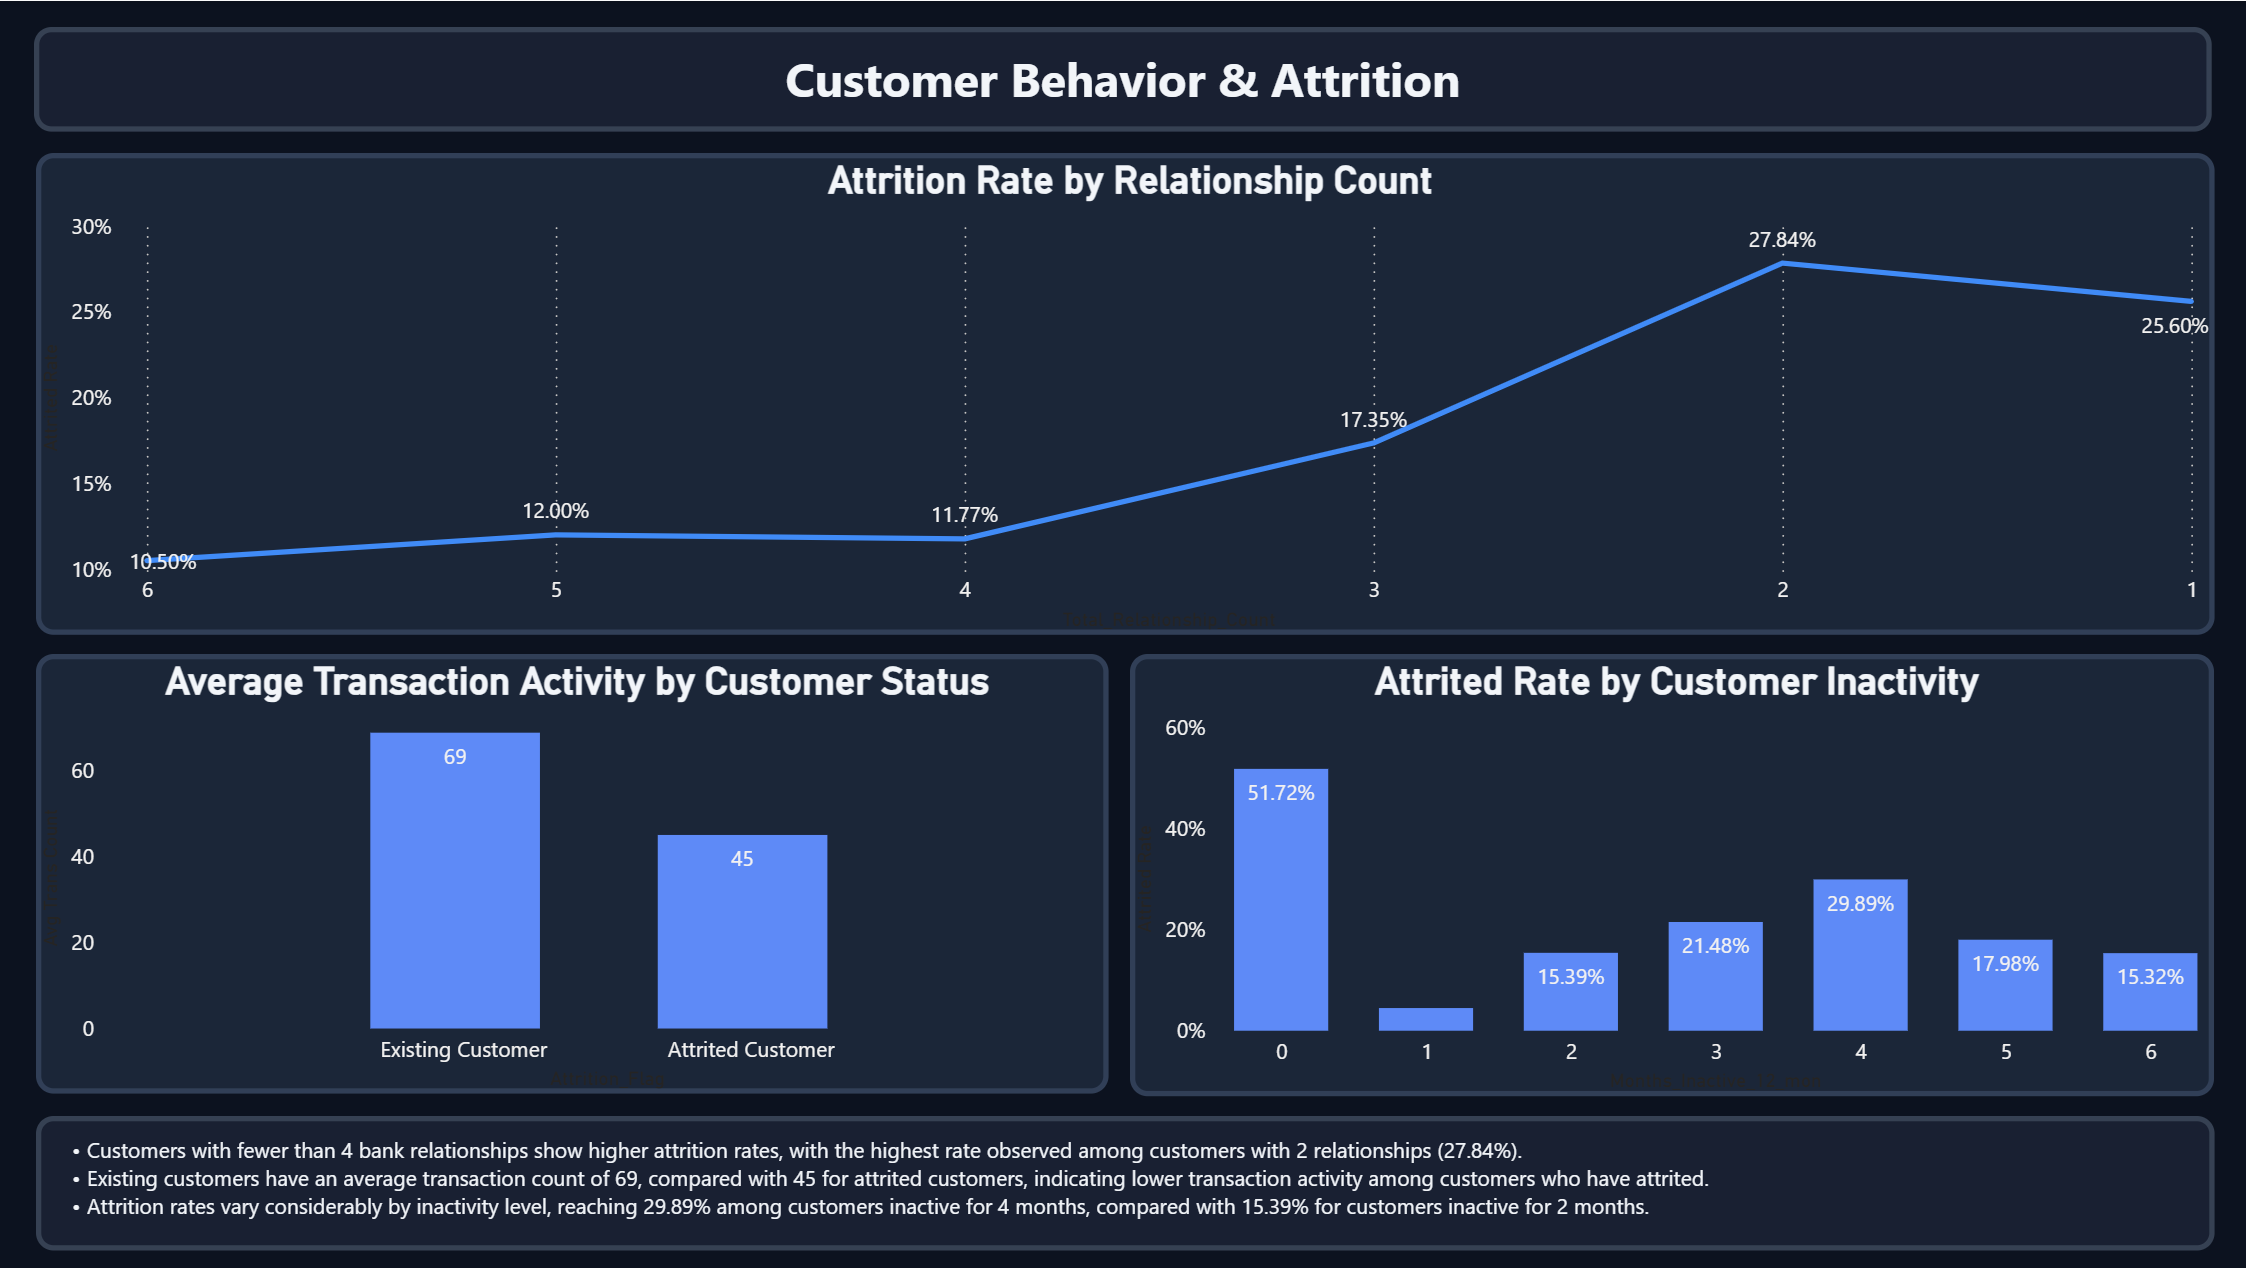

What the dashboard file says about the page in this screenshot:
{"tool":"powerbi","page":{"name":"Customer Behavior & Attrition ","canvas":[1280,720],"ordinal":1},"visuals":[{"type":"textbox","box":[20.7,15.3,1238.7,59.7],"z":0},{"type":"clusteredColumnChart","title":"Attrited Rate by Customer Inactivity","fields":{"Y":["BankChurners.Attrited Rate"],"Category":["BankChurners.Months_Inactive_12_mon"]},"box":[643.8,371.2,616.2,251.2],"z":5000},{"type":"clusteredColumnChart","title":"Average Transaction Activity by Customer Status","fields":{"Category":["BankChurners.Attrition_Flag"],"Y":["BankChurners.Avg Trans Count"]},"box":[21.2,371.2,610,250],"z":6000},{"type":"lineChart","title":"Attrition Rate by Relationship Count","fields":{"Y":["BankChurners.Attrited Rate"],"Category":["BankChurners.Total_Relationship_Count"]},"box":[21.2,86.2,1238.8,273.8],"z":7000},{"type":"textbox","box":[21.2,633.8,1238.8,76.2],"z":8000}]}

Visuals, with their boxes in screenshot pixels (x1, y1, x2, y2), scaled from the page's 1280x720 canvas onto the 2246x1268 screenshot:
textbox: l=36, t=27, r=2210, b=132
"Attrited Rate by Customer Inactivity" clusteredColumnChart: l=1130, t=654, r=2211, b=1096
"Average Transaction Activity by Customer Status" clusteredColumnChart: l=37, t=654, r=1108, b=1094
"Attrition Rate by Relationship Count" lineChart: l=37, t=152, r=2211, b=634
textbox: l=37, t=1116, r=2211, b=1250
